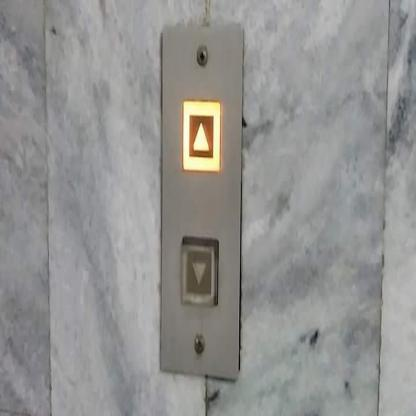down: (179, 237, 219, 311)
up: (181, 100, 220, 174)
